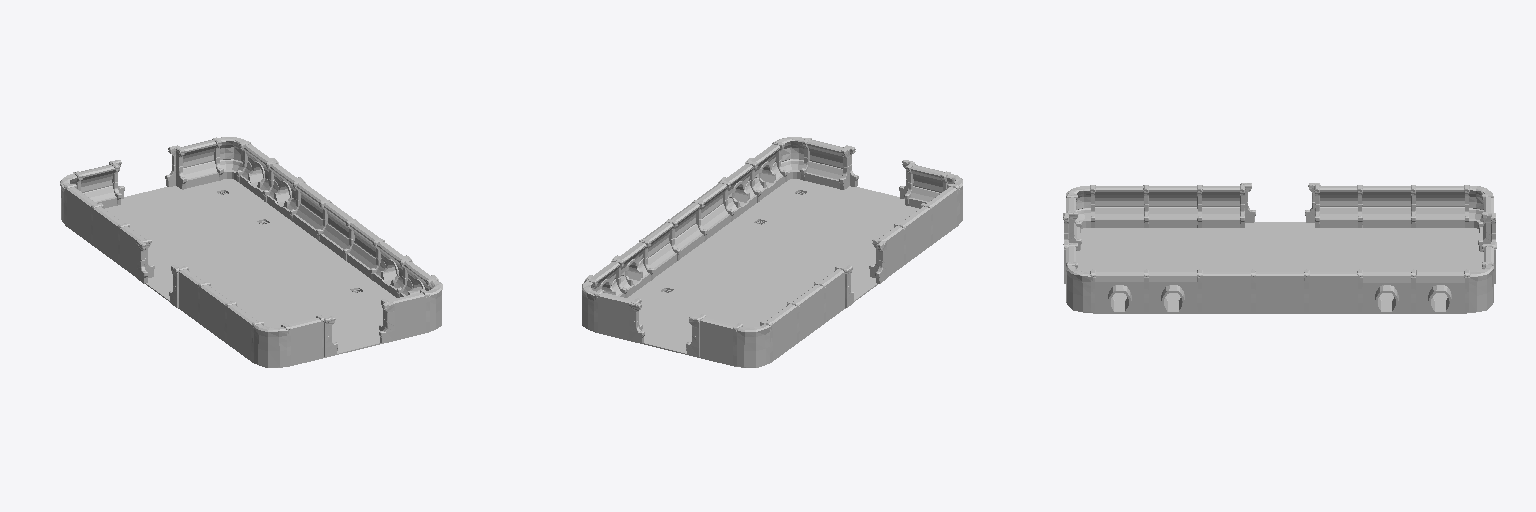
The model's file is DungeonRoom_15.obj.
3 renders of one model, left to right at view 1: azimuth 30°, elevation 25°; view 2: azimuth 150°, elevation 25°; view 3: azimuth 270°, elevation 25°, orthographic.
Visible parts, largest first — view 1: DungeonRoom_15; view 2: DungeonRoom_15; view 3: DungeonRoom_15.
Boxes of the visible parts, x1,y1,x2,y2 form: DungeonRoom_15: [60, 137, 442, 367]; DungeonRoom_15: [582, 137, 962, 367]; DungeonRoom_15: [1063, 183, 1496, 313].
Bounding box in the file's own units: 34.45 × 8.22 × 64.91.